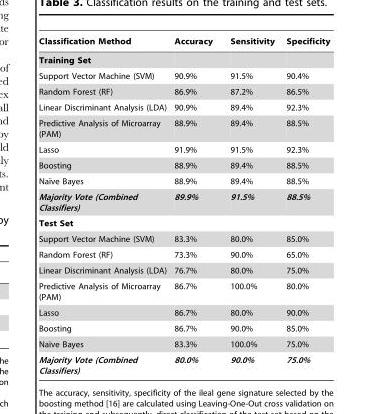table: (37, 36, 329, 374)
table column: (37, 36, 169, 374), (220, 36, 279, 374), (169, 36, 220, 374), (279, 36, 329, 374)
table column header: (37, 36, 329, 50)
table projected row header: (37, 50, 329, 67), (37, 215, 329, 230)
table row: (37, 188, 329, 215), (37, 115, 329, 141), (37, 278, 329, 304), (37, 351, 329, 374), (37, 50, 329, 67), (37, 67, 329, 83), (37, 83, 329, 99), (37, 99, 329, 115), (37, 141, 329, 157), (37, 172, 329, 188), (37, 230, 329, 246), (37, 246, 329, 262), (37, 262, 329, 278), (37, 304, 329, 320), (37, 320, 329, 336), (37, 157, 329, 172), (37, 215, 329, 230), (37, 336, 329, 351), (37, 36, 329, 50)
